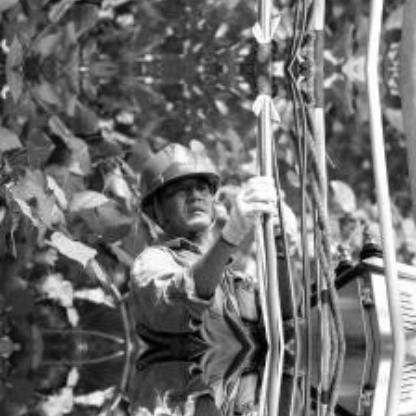helmet: (128, 135, 232, 246)
